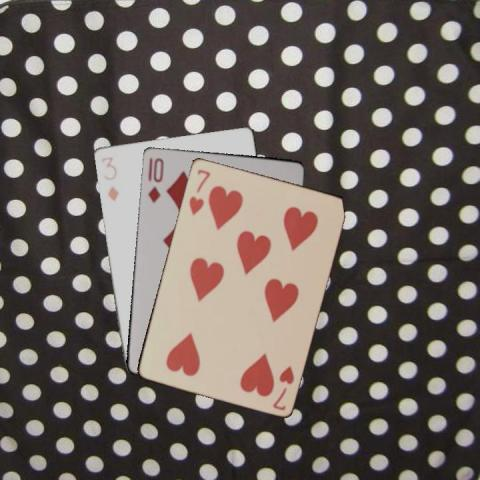10d: (145, 155, 165, 204)
3d: (98, 153, 120, 202)
7h: (185, 165, 212, 216), (270, 362, 296, 411)
